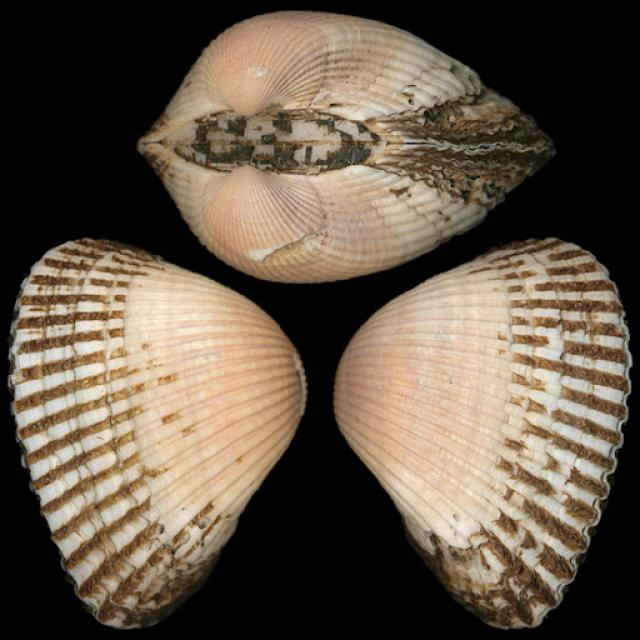Anadara_kagoshimensis: (333, 240, 631, 630), (10, 238, 304, 632), (138, 12, 554, 282)
